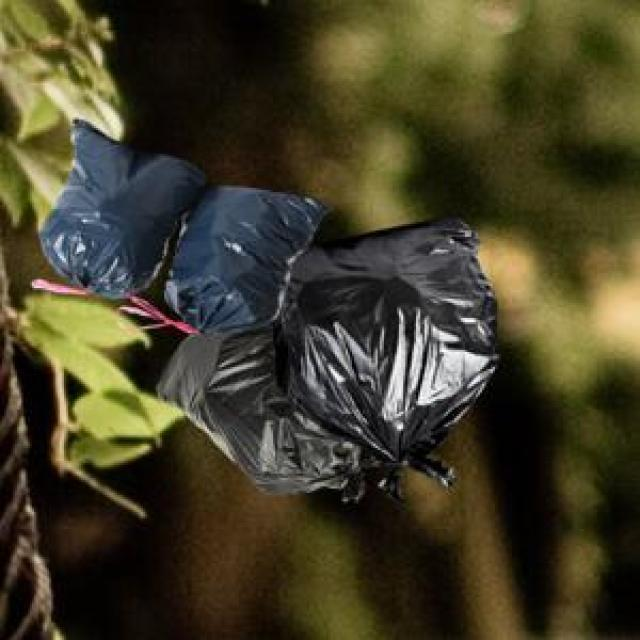Vinyl: (290, 236, 504, 464), (162, 330, 372, 494), (42, 118, 190, 299), (186, 185, 304, 324)
